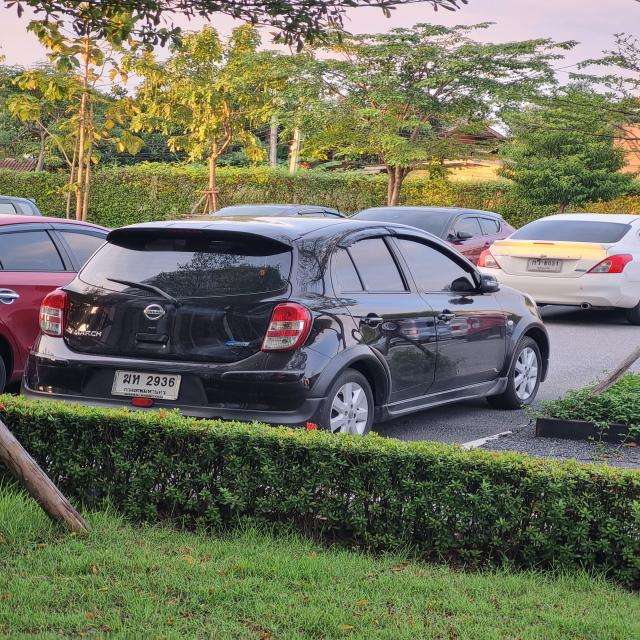license_plate: (113, 364, 184, 400), (526, 253, 564, 276)
